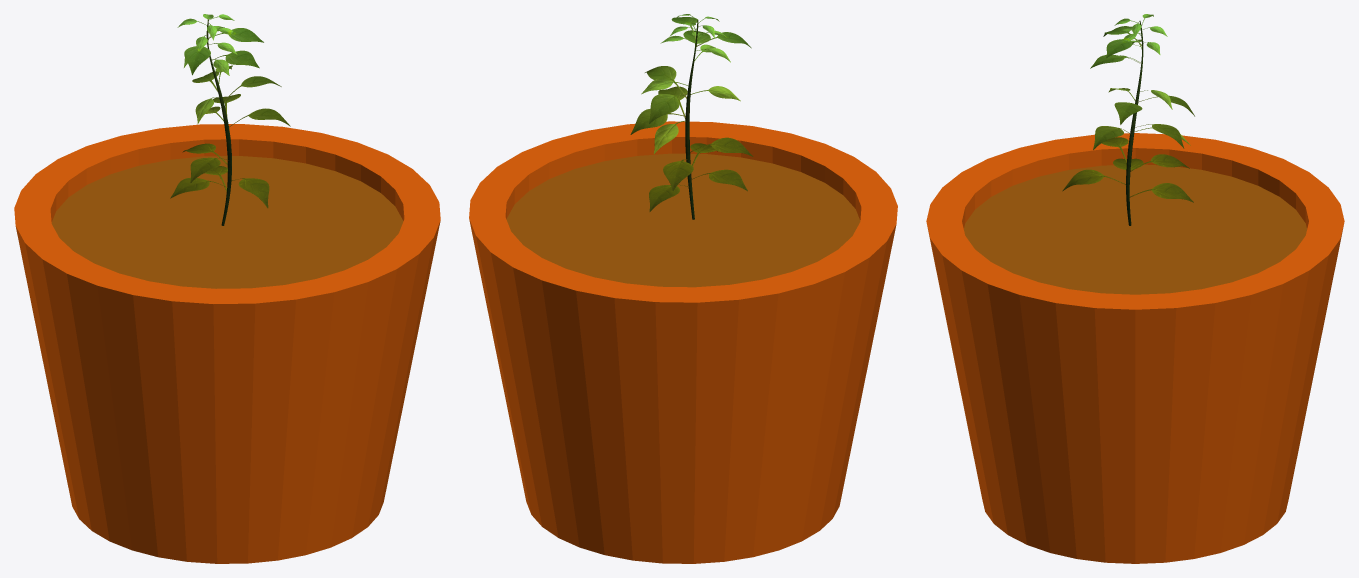
File: plant_seedling.fbx
3 renders of one model, left to right at view 1: azimuth 30°, elevation 25°; view 2: azimuth 150°, elevation 25°; view 3: azimuth 270°, elevation 25°, orthographic. The views are drawn at different scales.
Visible parts, largest first — view 1: Pot.002, Circle.001, Plane.002; view 2: Pot.002, Circle.001, Plane.002; view 3: Pot.002, Circle.001, Plane.002.
Boxes of the visible parts, bbox=[...] form: Pot.002: bbox=[14, 124, 440, 563]; Circle.001: bbox=[170, 14, 290, 208]; Plane.002: bbox=[206, 19, 231, 225]; Pot.002: bbox=[469, 121, 897, 563]; Circle.001: bbox=[630, 14, 753, 211]; Plane.002: bbox=[685, 20, 698, 219]; Pot.002: bbox=[926, 133, 1344, 563]; Circle.001: bbox=[1062, 14, 1194, 202]; Plane.002: bbox=[1126, 21, 1143, 225].
Bounding box in the file's own units: 46.31 × 57.68 × 46.31.
4 materials, 2 textured.
